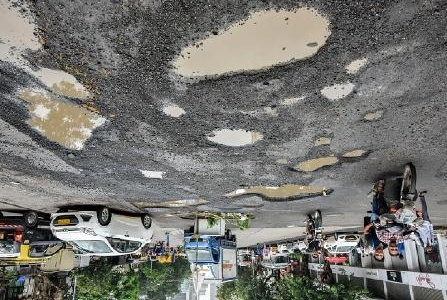pothole: (166, 5, 333, 86), (1, 67, 108, 155), (0, 0, 46, 64), (220, 181, 333, 204), (205, 125, 263, 150), (132, 197, 209, 211), (288, 154, 339, 175), (321, 81, 357, 104), (343, 57, 371, 76), (341, 146, 369, 163), (361, 107, 387, 125), (137, 168, 165, 182), (159, 105, 187, 118), (311, 136, 333, 147)
